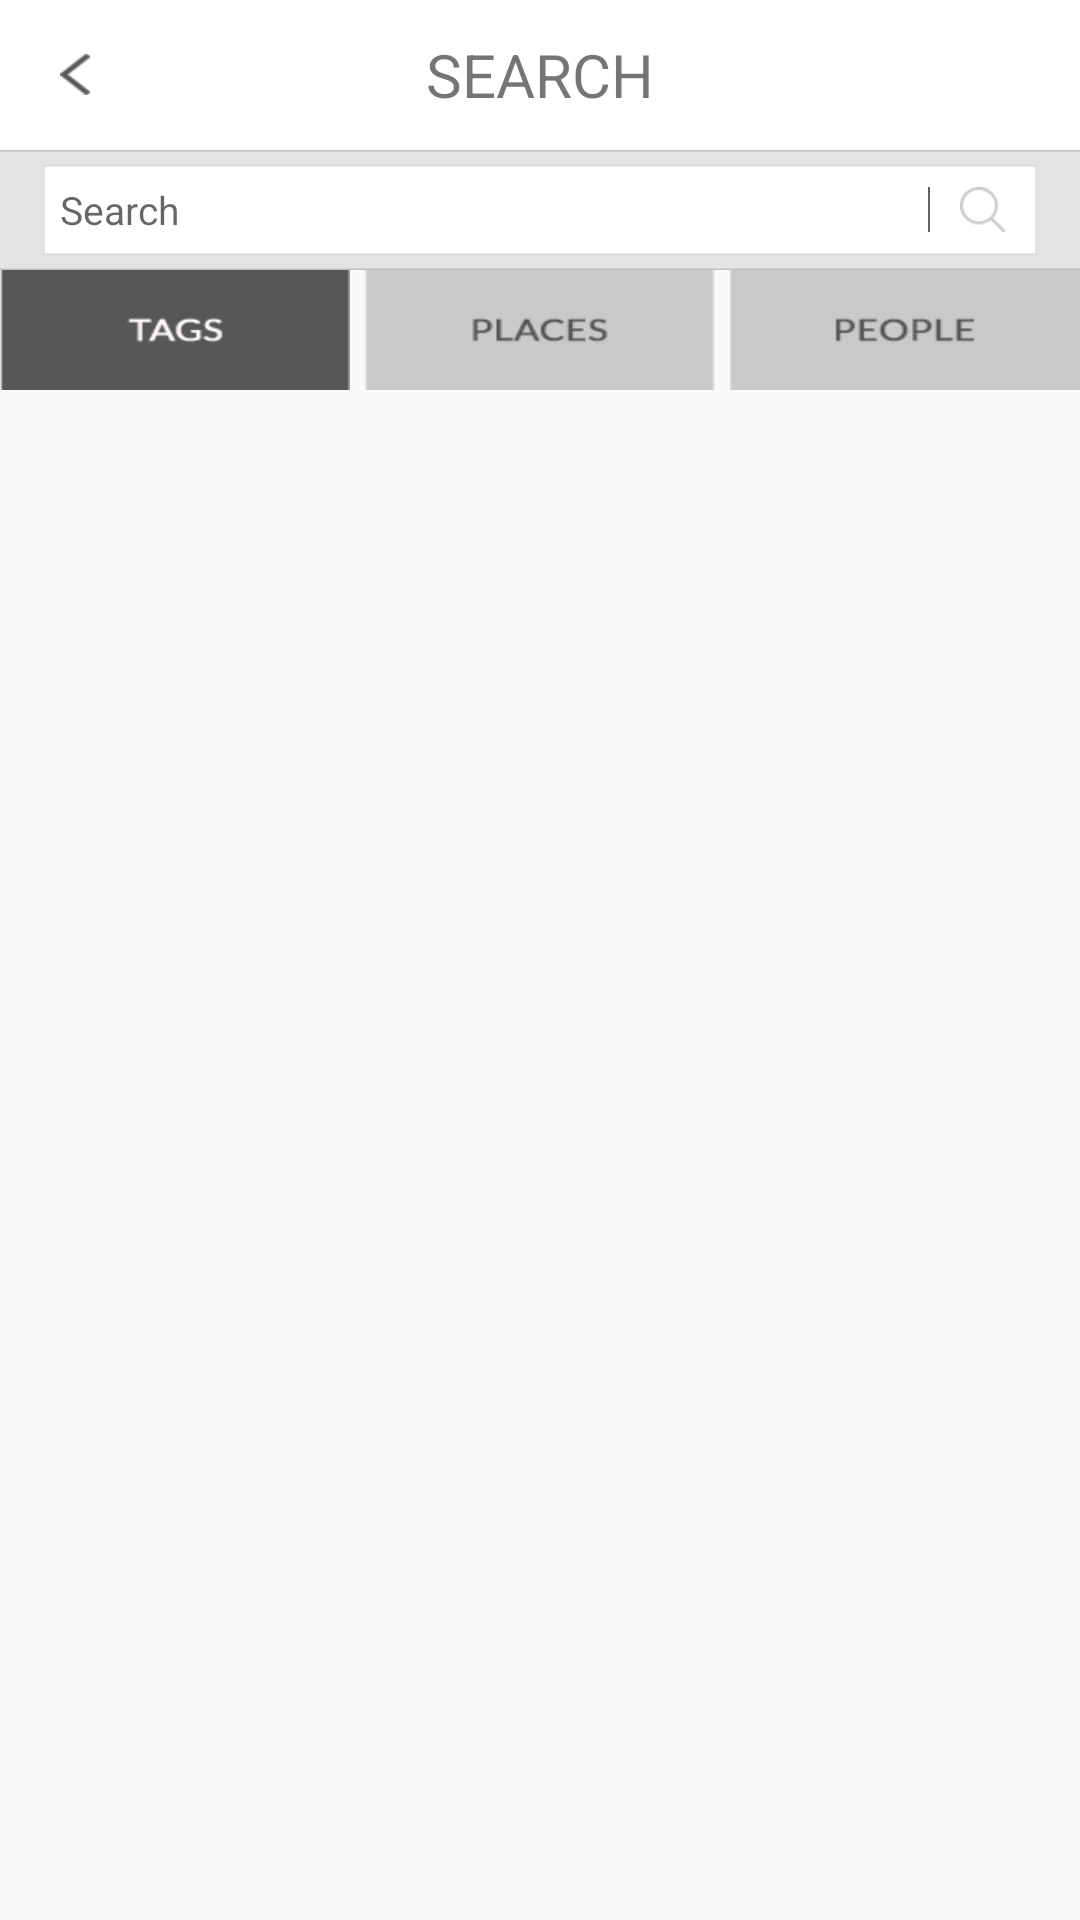

Locate icon controls on the screen. Image size 1080w x 1920h, boxes as box(x1, y1, x2, y2).
back: box(60, 54, 90, 95)
